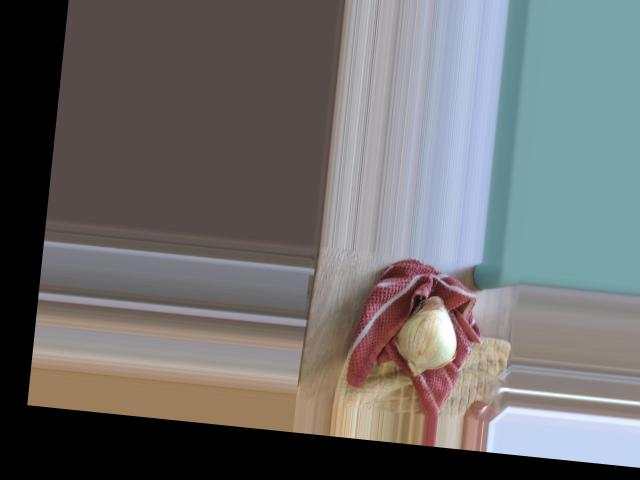onion: (391, 297, 465, 374)
